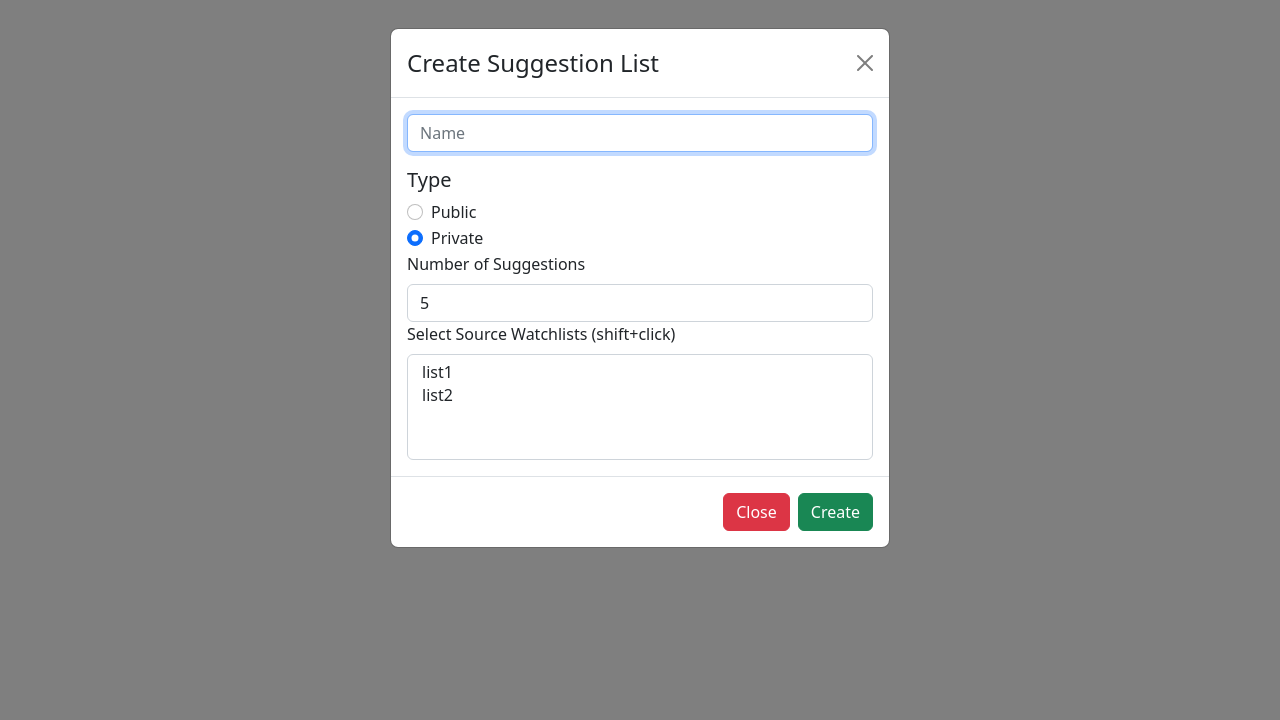
WatchlistDetail page › shows an error message when the watchlist name is blank
This screenshot has width=1280, height=720.
Step 1. Click the button with test id "createHandleSubmit" → click(835, 512), box [798,493,873,531]
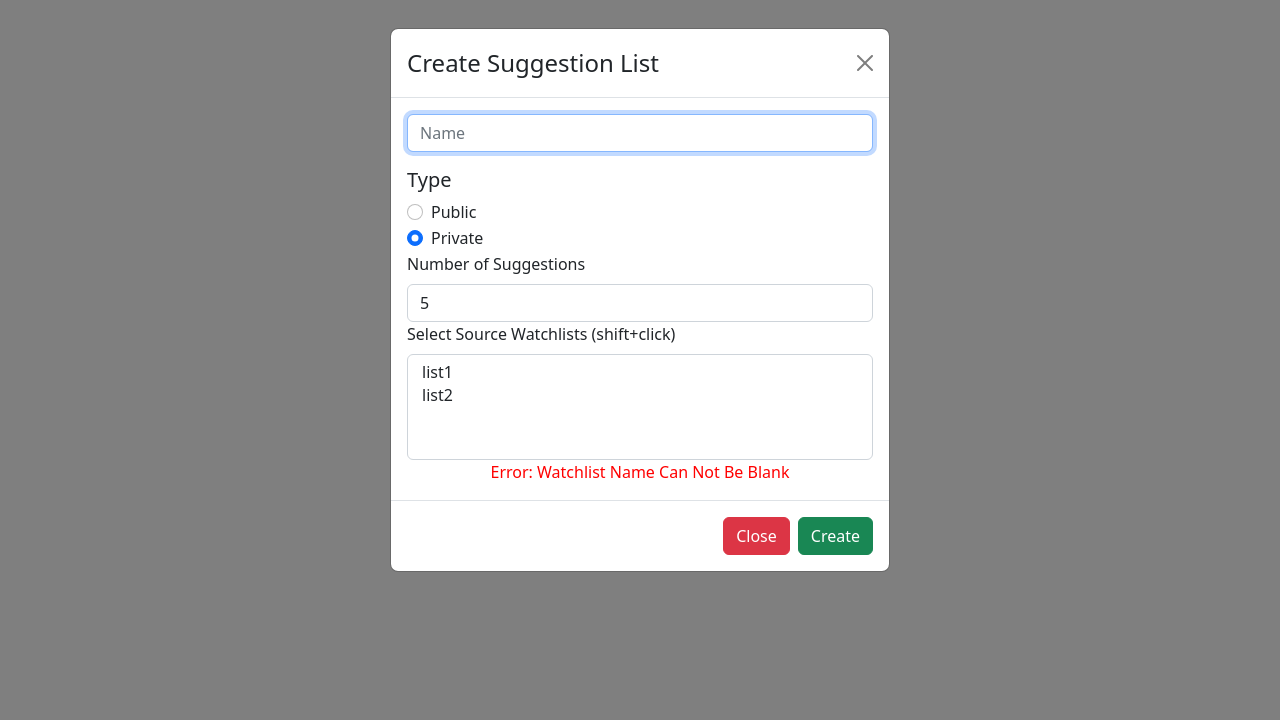
expect the text "Error: Watchlist Name Can Not Be Blank" is shown: met, box [490,461,790,483]
